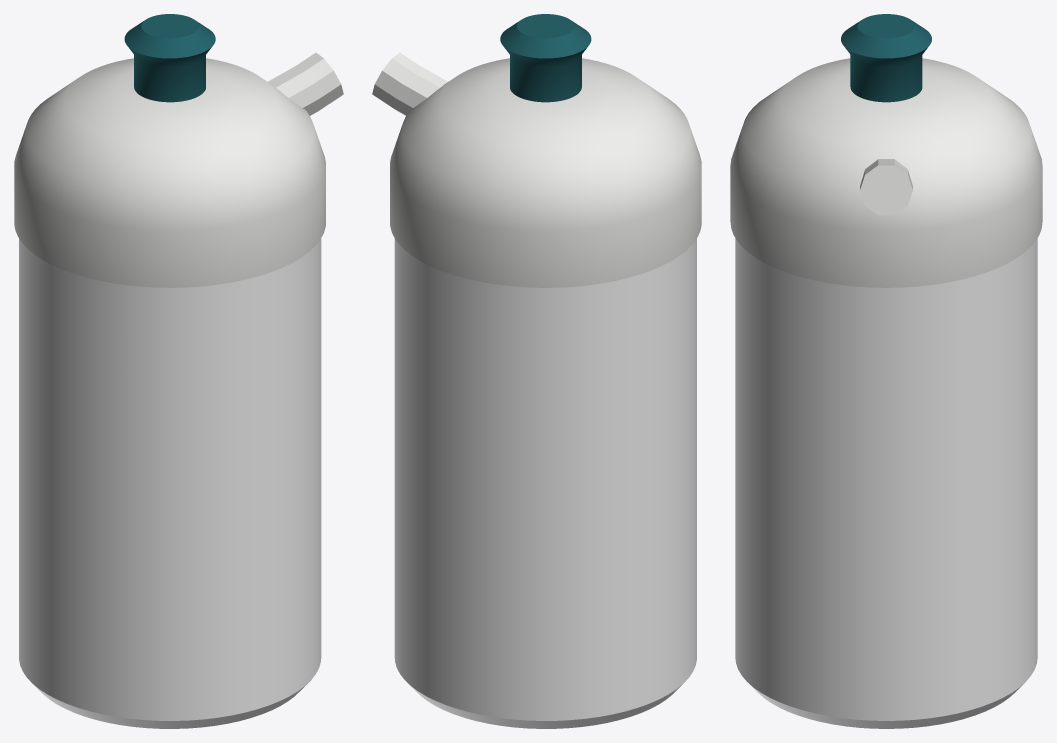
Rendered from kmils.glb.
The picture shows the model from 3 angles, left to right: view 1: azimuth 30°, elevation 25°; view 2: azimuth 150°, elevation 25°; view 3: azimuth 270°, elevation 25°; orthographic projection.
Visible parts, largest first — view 1: Kmils 230 ml Glass Oil Dispenser with Brush; view 2: Kmils 230 ml Glass Oil Dispenser with Brush; view 3: Kmils 230 ml Glass Oil Dispenser with Brush.
Part boxes in pixels (x1,y1,x2,y2): Kmils 230 ml Glass Oil Dispenser with Brush: (14, 14, 343, 728); Kmils 230 ml Glass Oil Dispenser with Brush: (372, 14, 701, 728); Kmils 230 ml Glass Oil Dispenser with Brush: (730, 14, 1042, 728).
Bounding box in the file's own units: 0.0724 × 0.148 × 0.065.
